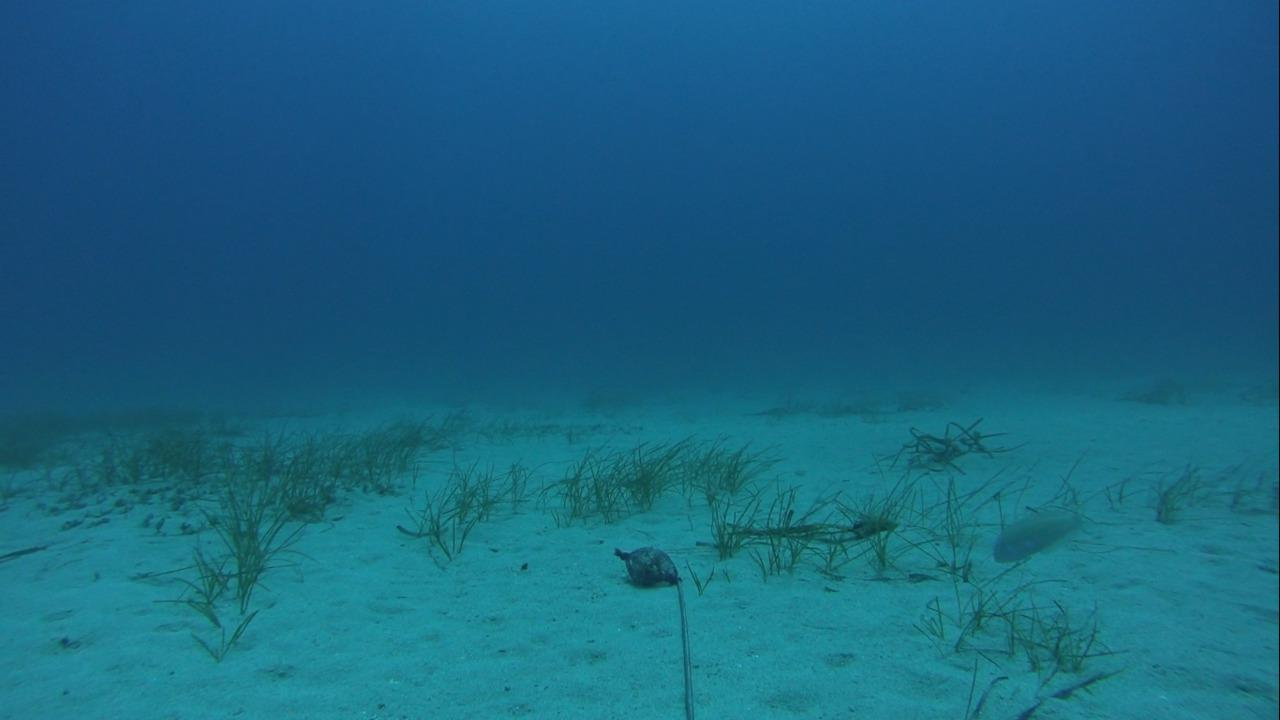raor: (988, 505, 1086, 568)
